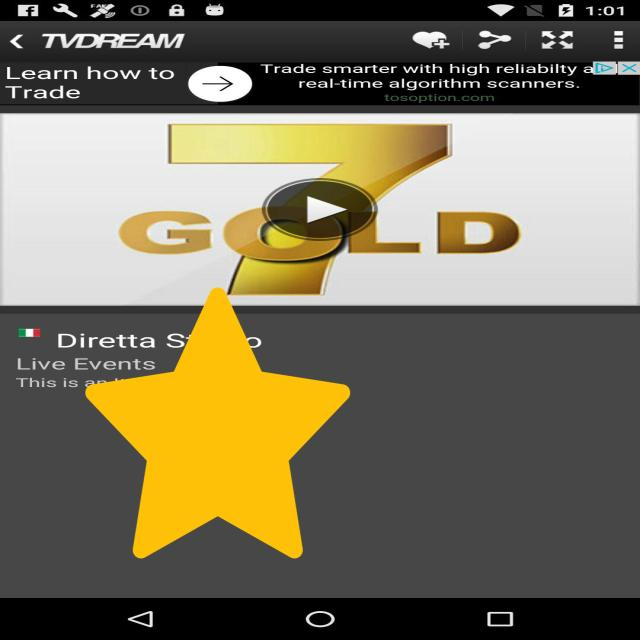forced continuity: (86, 287, 350, 559)
